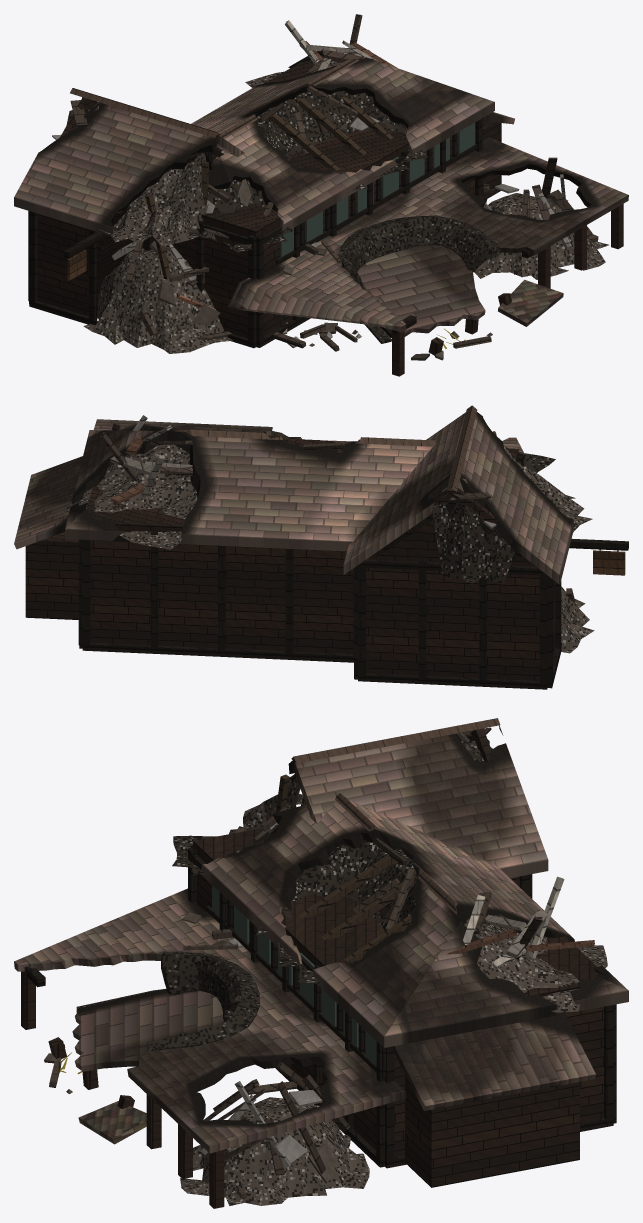
File: Arabuild05a.glb
The picture shows the model from 3 angles, top to bottom: view 1: azimuth 30°, elevation 25°; view 2: azimuth 150°, elevation 25°; view 3: azimuth 270°, elevation 25°; orthographic projection. The views are drawn at different scales.
Parts seen in each view (by area): view 1: Arabuild05a_wrafter.001; view 2: Arabuild05a_wrafter.001; view 3: Arabuild05a_wrafter.001.
Part boxes in pixels (x1=…): Arabuild05a_wrafter.001: x1=14, y1=14, x2=628, y2=376; Arabuild05a_wrafter.001: x1=14, y1=405, x2=628, y2=689; Arabuild05a_wrafter.001: x1=14, y1=718, x2=628, y2=1208.
Size of the model in its own units: 18.57 by 6.29 by 15.14.
Materials: 32 (30 with a texture image).
